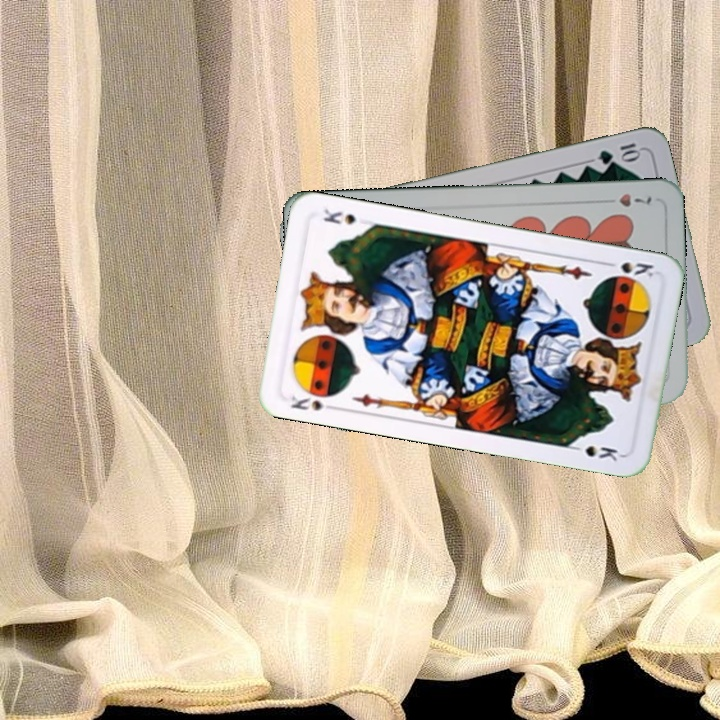G10: (594, 139, 643, 167)
H7: (598, 189, 654, 210)
SK: (600, 257, 656, 280), (286, 391, 340, 414)
